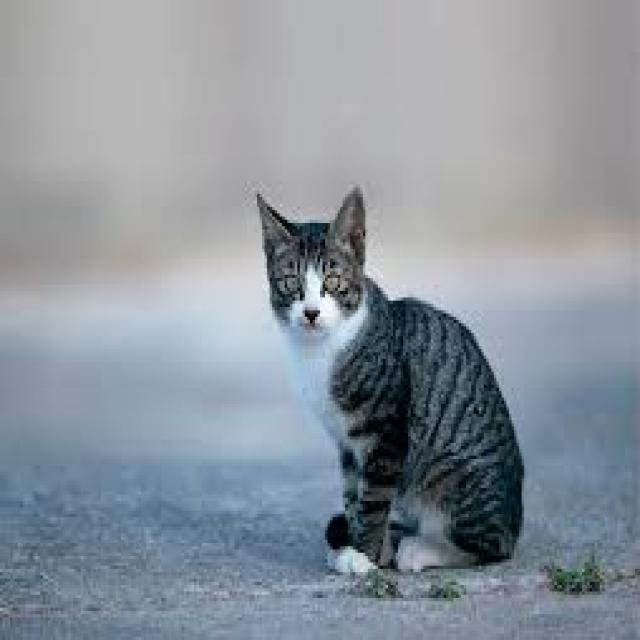cat: (255, 186, 523, 581)
